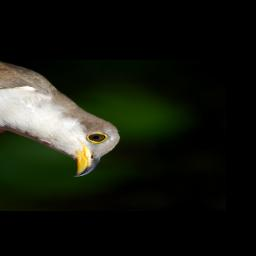Cuckoo: (0, 60, 140, 178)
